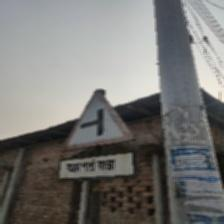Side-road-left: (57, 97, 135, 180)
